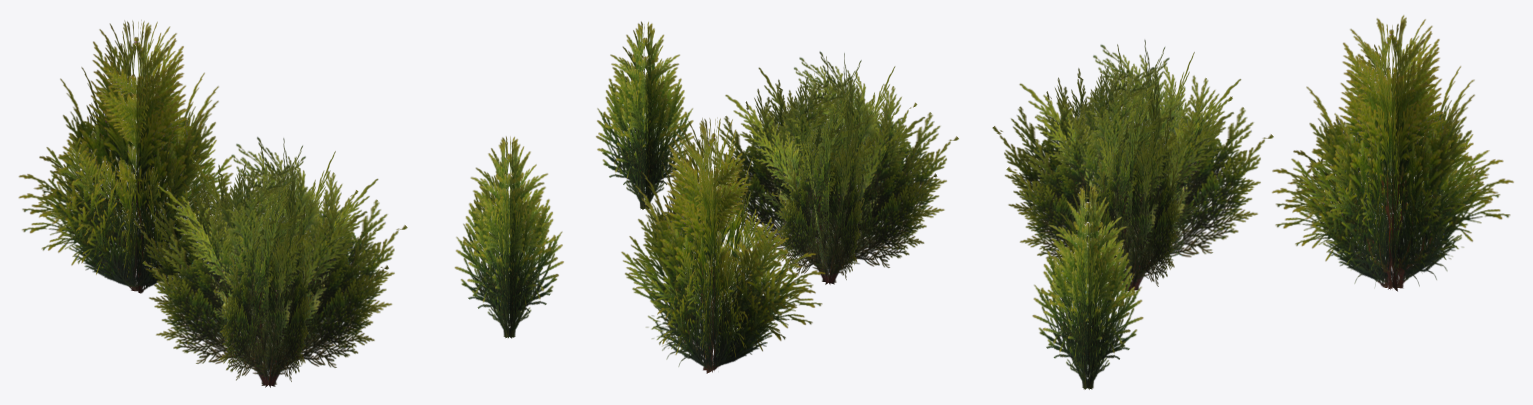
File: 3_pine_bushes.glb
3 views of the same model, side by side, from view 1: azimuth 30°, elevation 25°; view 2: azimuth 150°, elevation 25°; view 3: azimuth 270°, elevation 25° (orthographic). The views are drawn at different scales.
Parts seen in each view (by area): view 1: Plane001_Material #25_0; view 2: Plane001_Material #25_0; view 3: Plane001_Material #25_0.
Boxes of the visible parts, bbox=[...] form: Plane001_Material #25_0: bbox=[18, 20, 563, 387]; Plane001_Material #25_0: bbox=[596, 21, 958, 373]; Plane001_Material #25_0: bbox=[992, 15, 1513, 389].
Size of the model in its own units: 1.16 by 0.7617 by 1.35.
Materials: 1 (1 with a texture image).
